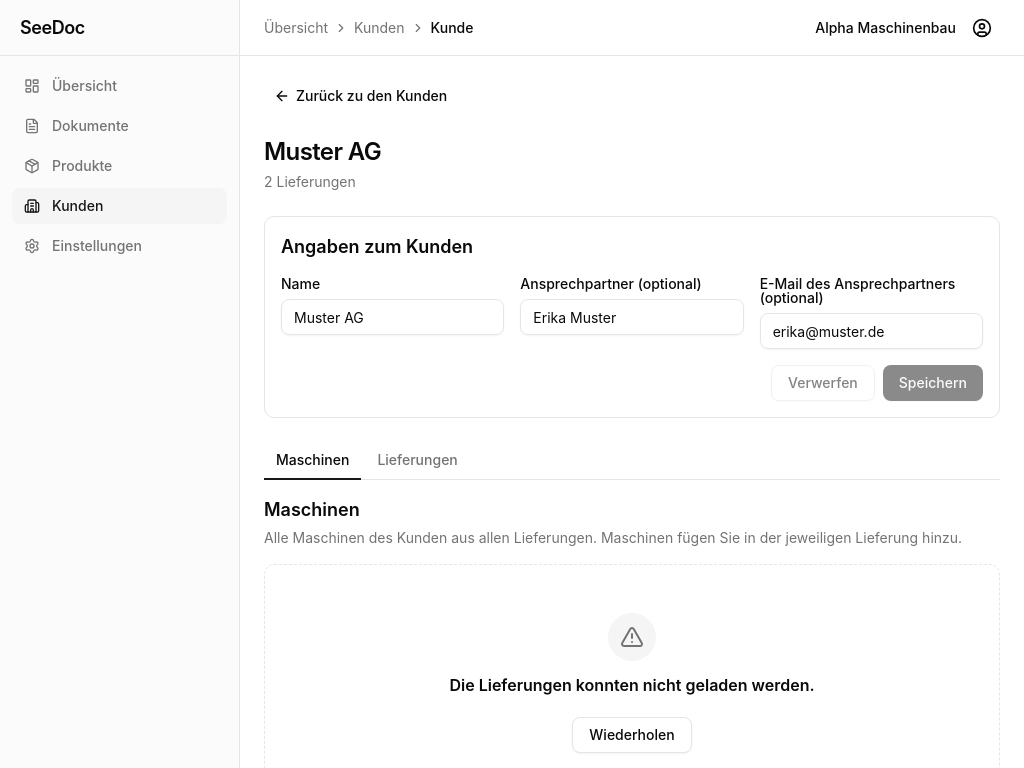
Test: CustomerDetailPage › does not count a different spelling of the same address as a change
expect the field labelled "Name" holds "Muster AG": met, box [281, 299, 504, 335]
Replace the text in the field labelled "E-Mail des Ansprechpartners (optional)" with "Erika@Muster.de" at (871, 331), box [760, 313, 983, 349]
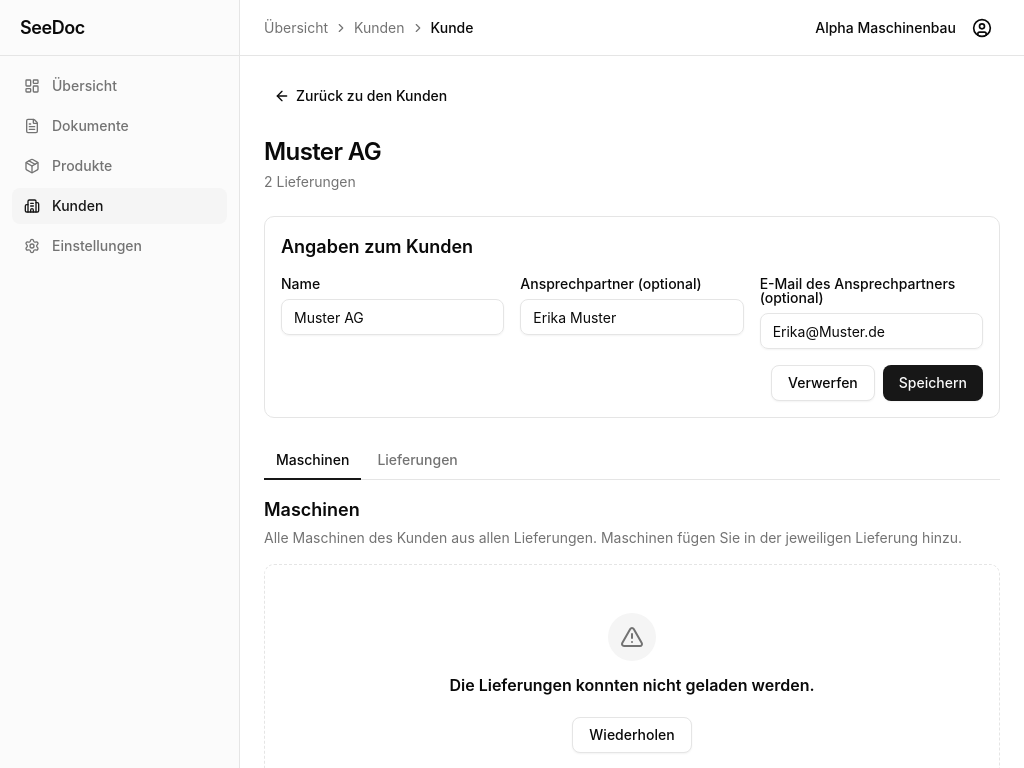
Click the button "Speichern" at (933, 383), box [883, 365, 983, 401]
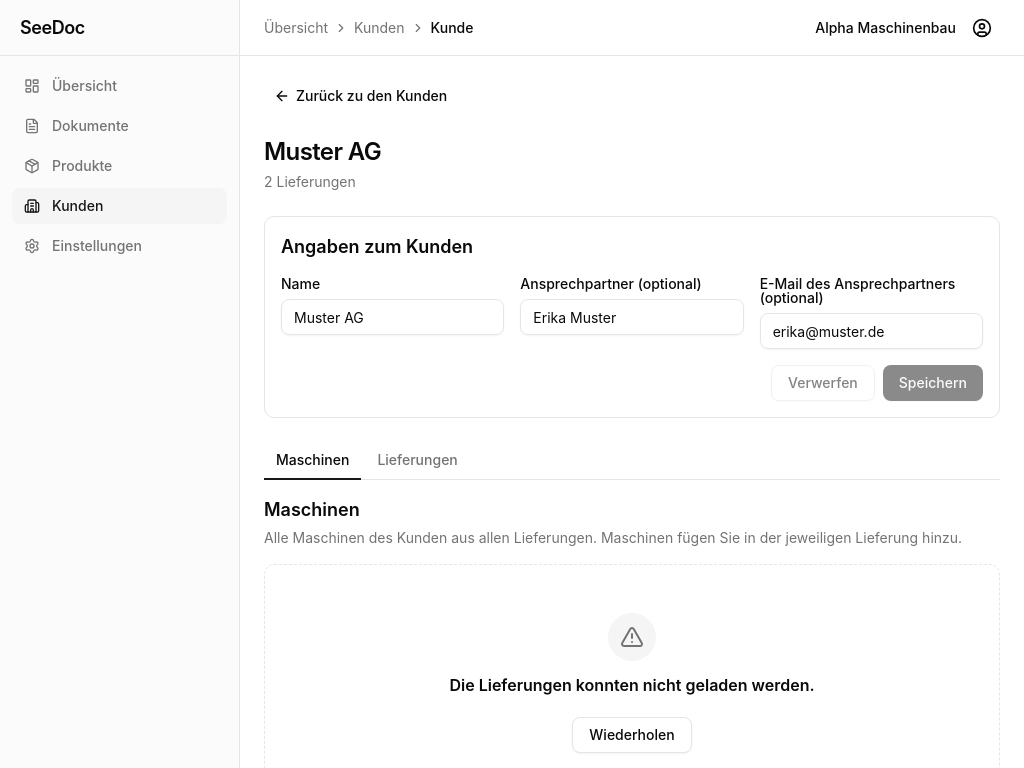
expect the button "Speichern" is disabled: met, box [883, 365, 983, 401]
